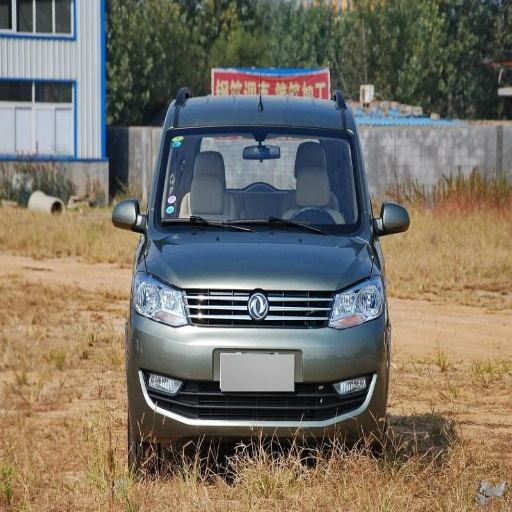front_bumper: (132, 291, 386, 441)
front_right_light: (132, 269, 193, 326)
hood: (146, 231, 374, 291)
